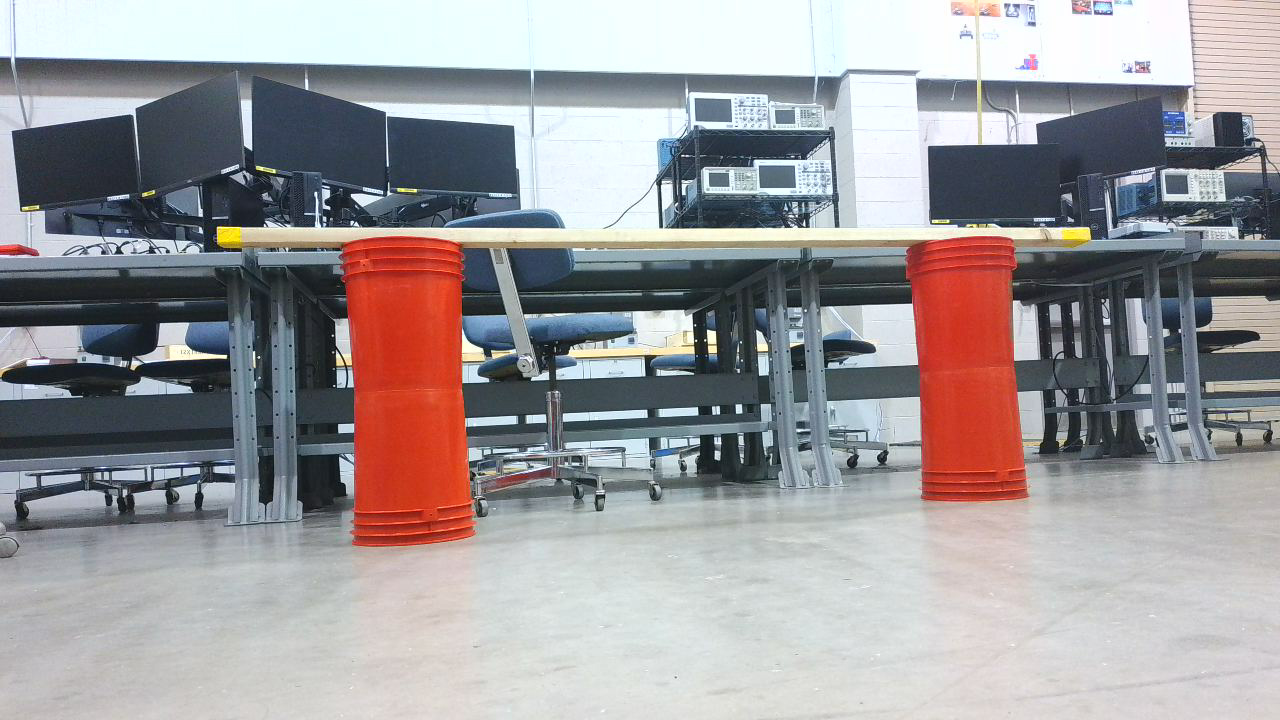red_bucket_arch: (341, 228, 1062, 557)
